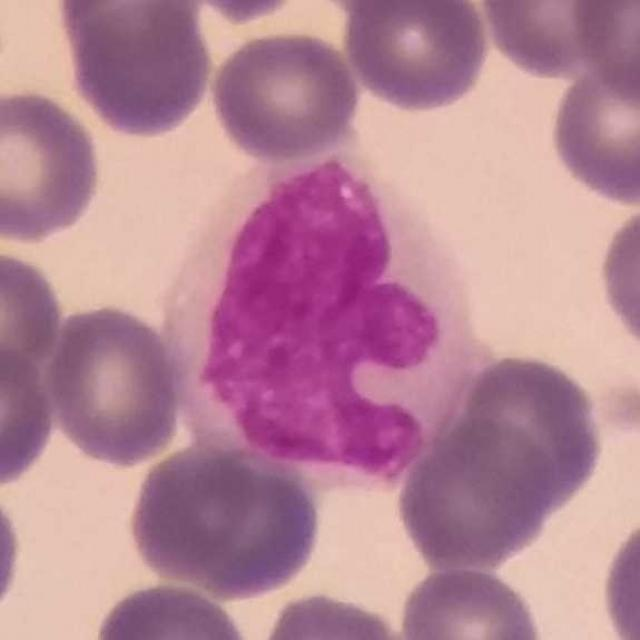Monocyte: (162, 155, 488, 489)
RBC: (122, 442, 328, 599), (393, 413, 556, 574), (453, 348, 607, 518), (40, 299, 187, 470), (57, 1, 216, 140), (206, 25, 364, 164), (338, 0, 493, 116), (0, 85, 107, 246), (545, 57, 640, 208), (474, 0, 630, 81), (395, 562, 548, 640), (89, 577, 256, 640), (50, 0, 207, 66), (0, 242, 68, 388), (0, 341, 59, 493), (254, 586, 417, 640), (594, 199, 640, 361), (569, 0, 640, 102), (597, 508, 640, 640), (0, 479, 27, 630), (156, 0, 309, 24), (316, 0, 462, 22)
